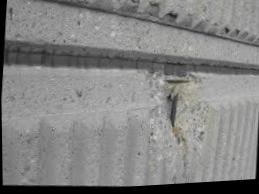exposed_rebar: (170, 93, 177, 126)
spalling: (144, 64, 216, 183)
